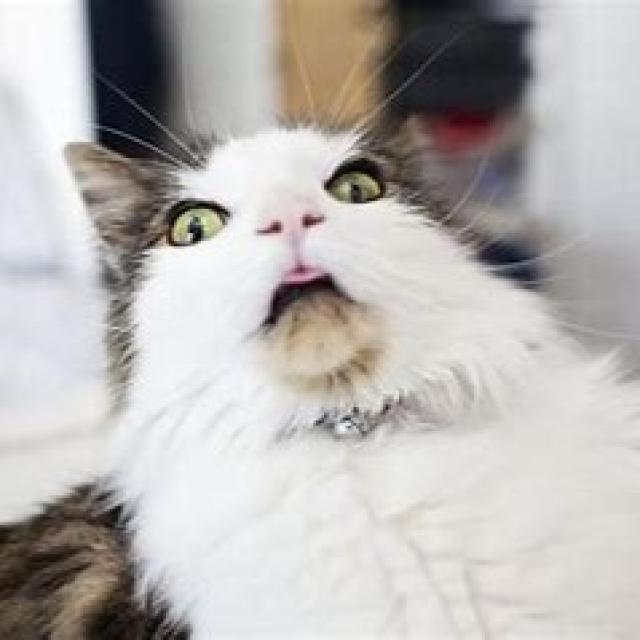Surprised: (146, 144, 429, 365)
